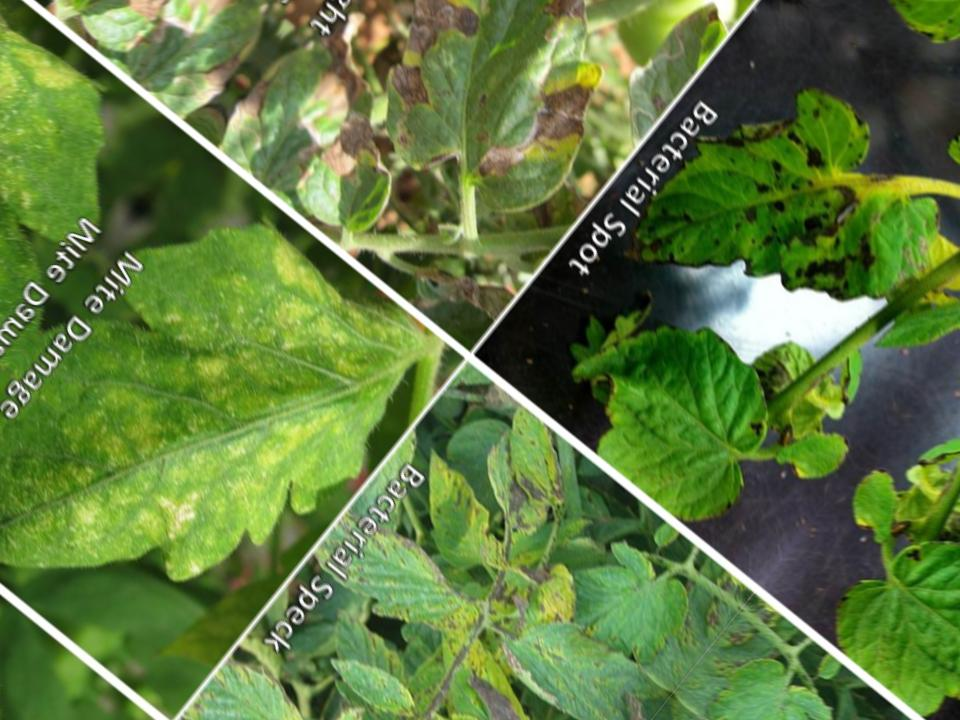Tomato Early blight leaf: (288, 0, 711, 264)
Tomato leaf bacterial spot: (593, 15, 960, 409), (507, 243, 825, 548), (532, 507, 726, 703), (313, 490, 507, 669), (472, 561, 672, 720), (367, 434, 549, 604), (440, 401, 587, 546), (178, 622, 390, 720), (415, 680, 532, 720)
